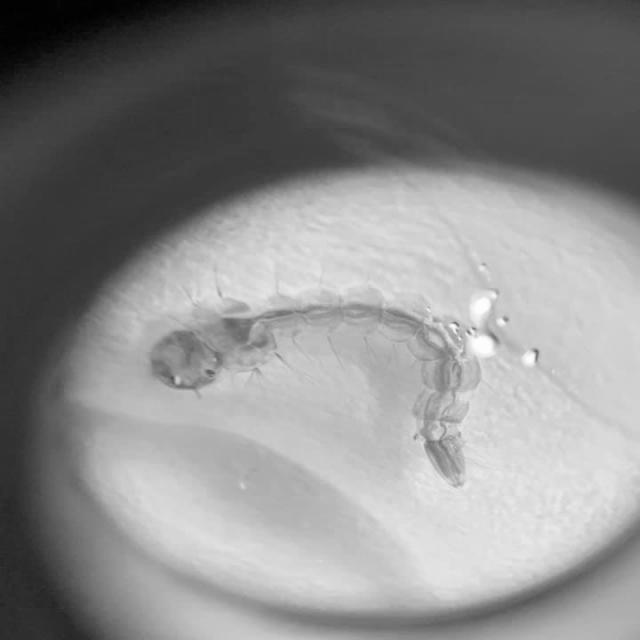larvas: (153, 272, 475, 490)
